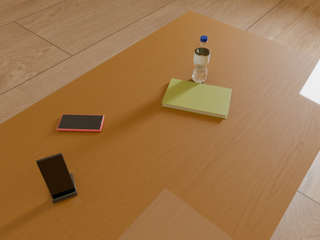book: (162, 79, 232, 119)
bottle: (192, 36, 210, 83)
phone: (36, 153, 75, 199), (57, 114, 104, 132)
